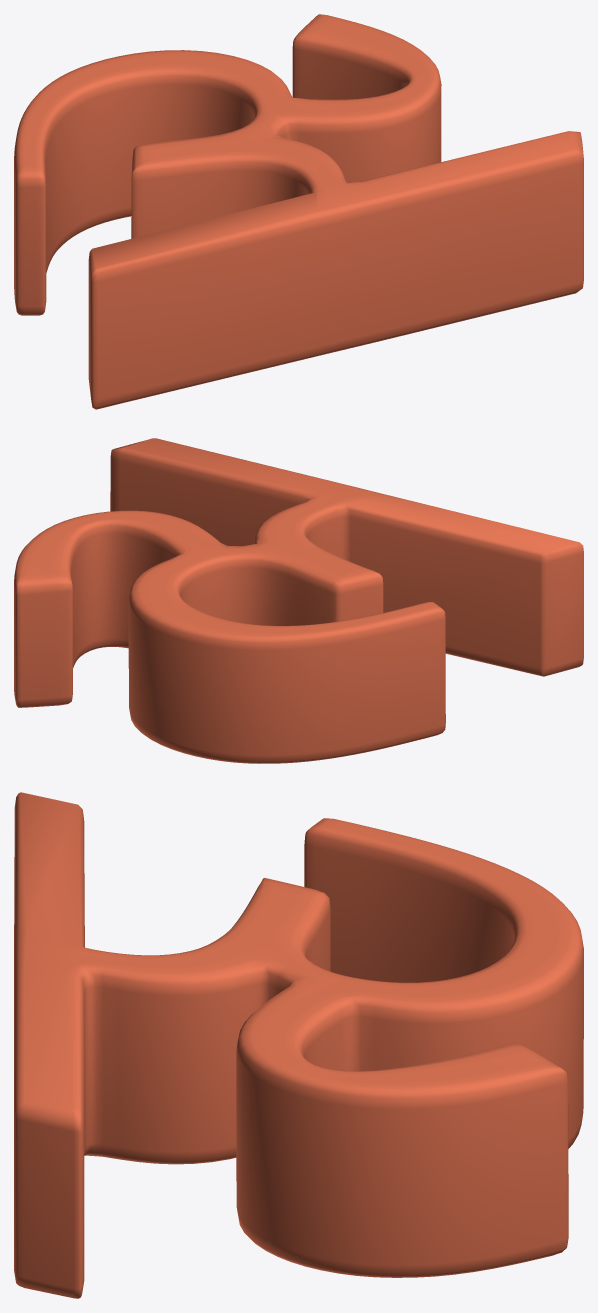
The picture shows the model from 3 angles, top to bottom: view 1: azimuth 30°, elevation 25°; view 2: azimuth 150°, elevation 25°; view 3: azimuth 270°, elevation 25°; orthographic projection. The views are drawn at different scales.
Visible parts, largest first — view 1: 3D_Alphabets_Hindi_Language_02.006; view 2: 3D_Alphabets_Hindi_Language_02.006; view 3: 3D_Alphabets_Hindi_Language_02.006.
Boxes of the visible parts, bbox=[...] form: 3D_Alphabets_Hindi_Language_02.006: bbox=[14, 14, 583, 409]; 3D_Alphabets_Hindi_Language_02.006: bbox=[14, 438, 583, 763]; 3D_Alphabets_Hindi_Language_02.006: bbox=[14, 792, 583, 1298].
Bounding box in the file's own units: 0.7931 × 0.2129 × 0.5808.
